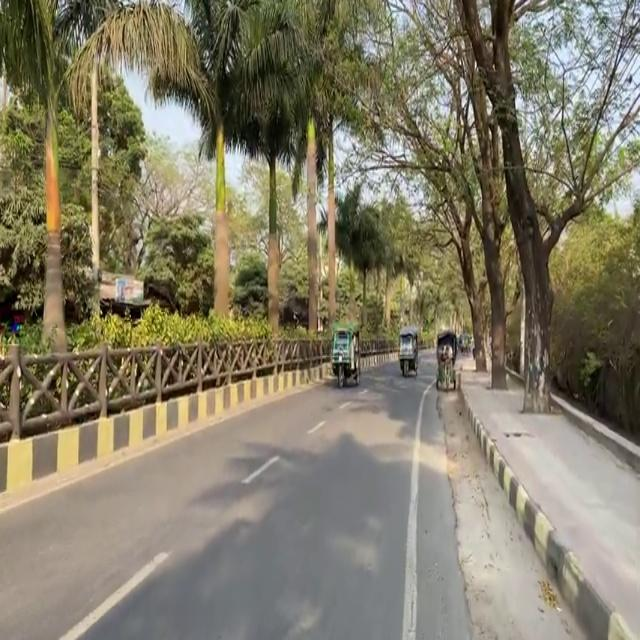Construction-barrier: (503, 362, 639, 480), (16, 394, 214, 474)
Fallen-tree: (457, 332, 472, 354)
Garbage: (329, 324, 361, 387)
Light-pole: (304, 115, 319, 333)
Pole: (0, 314, 322, 488)
Pothole: (450, 355, 639, 639)
Traffic-cone: (435, 329, 457, 391), (399, 326, 420, 377)
